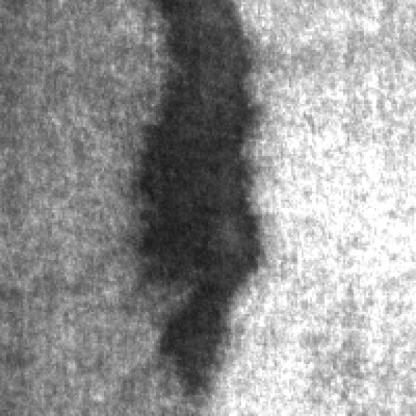patches: (123, 2, 258, 302), (158, 224, 235, 410)
